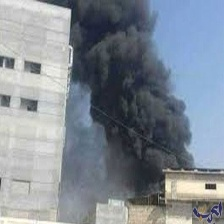smoke: (74, 1, 196, 177)
